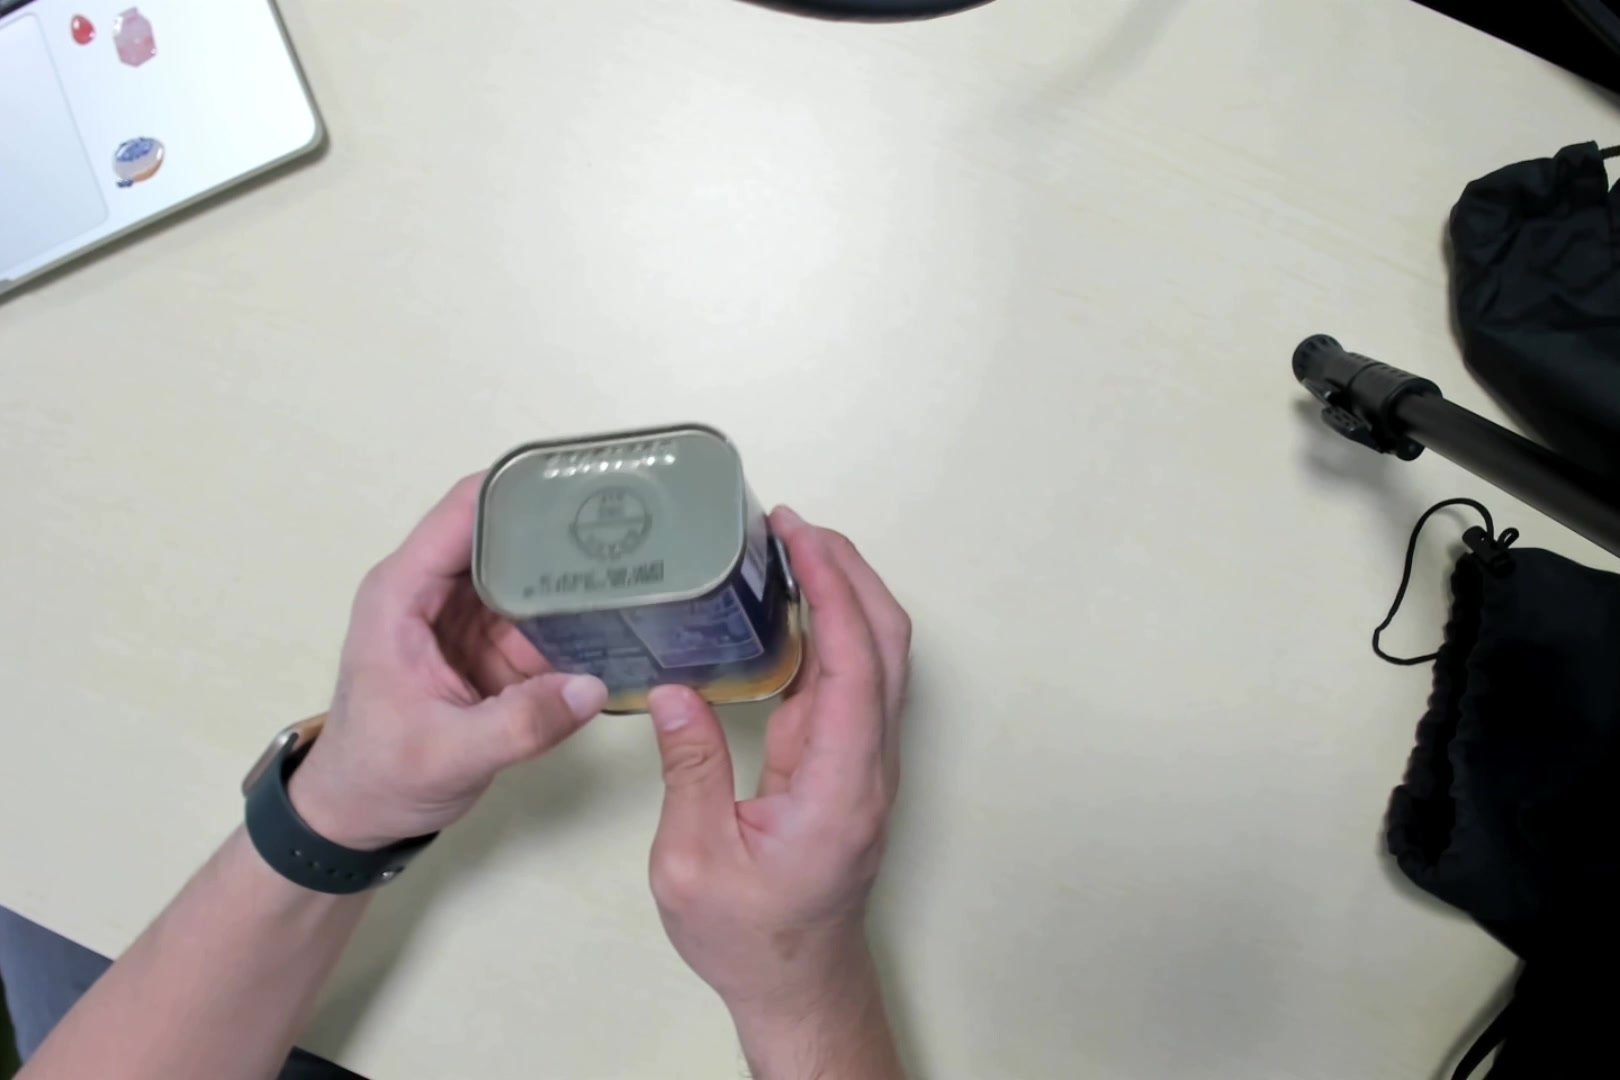CannedBeefOtherMeats_300-399g_Halal_NonHealthy: (487, 436, 802, 705)
